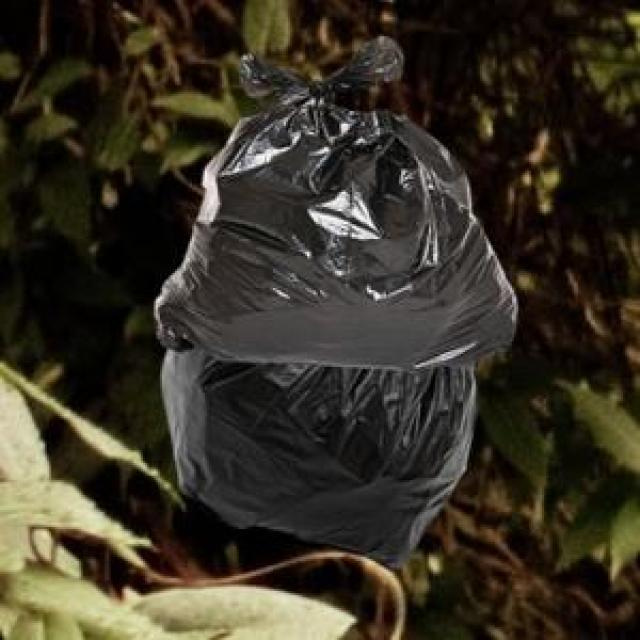Vinyl: (155, 41, 515, 562)
